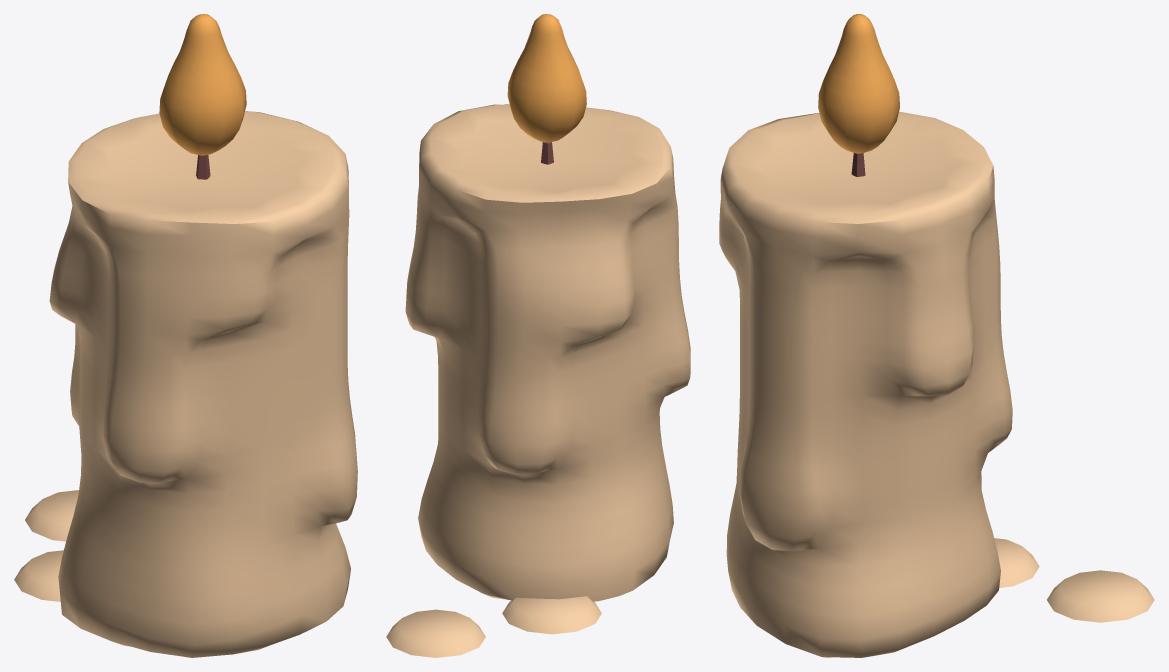
The model's file is velav3.fbx.
3 renders of one model, left to right at view 1: azimuth 30°, elevation 25°; view 2: azimuth 150°, elevation 25°; view 3: azimuth 270°, elevation 25°, orthographic. The views are drawn at different scales.
Parts seen in each view (by area): view 1: Circle; view 2: Circle; view 3: Circle.
Part boxes in pixels (x1,y1,x2,y2): Circle: [14, 14, 357, 657]; Circle: [386, 14, 690, 657]; Circle: [719, 14, 1154, 657].
Size of the model in its own units: 0.1906 by 0.4283 by 0.2833.
